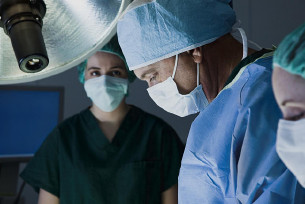face_mask: (130, 36, 199, 116), (84, 54, 130, 110)
